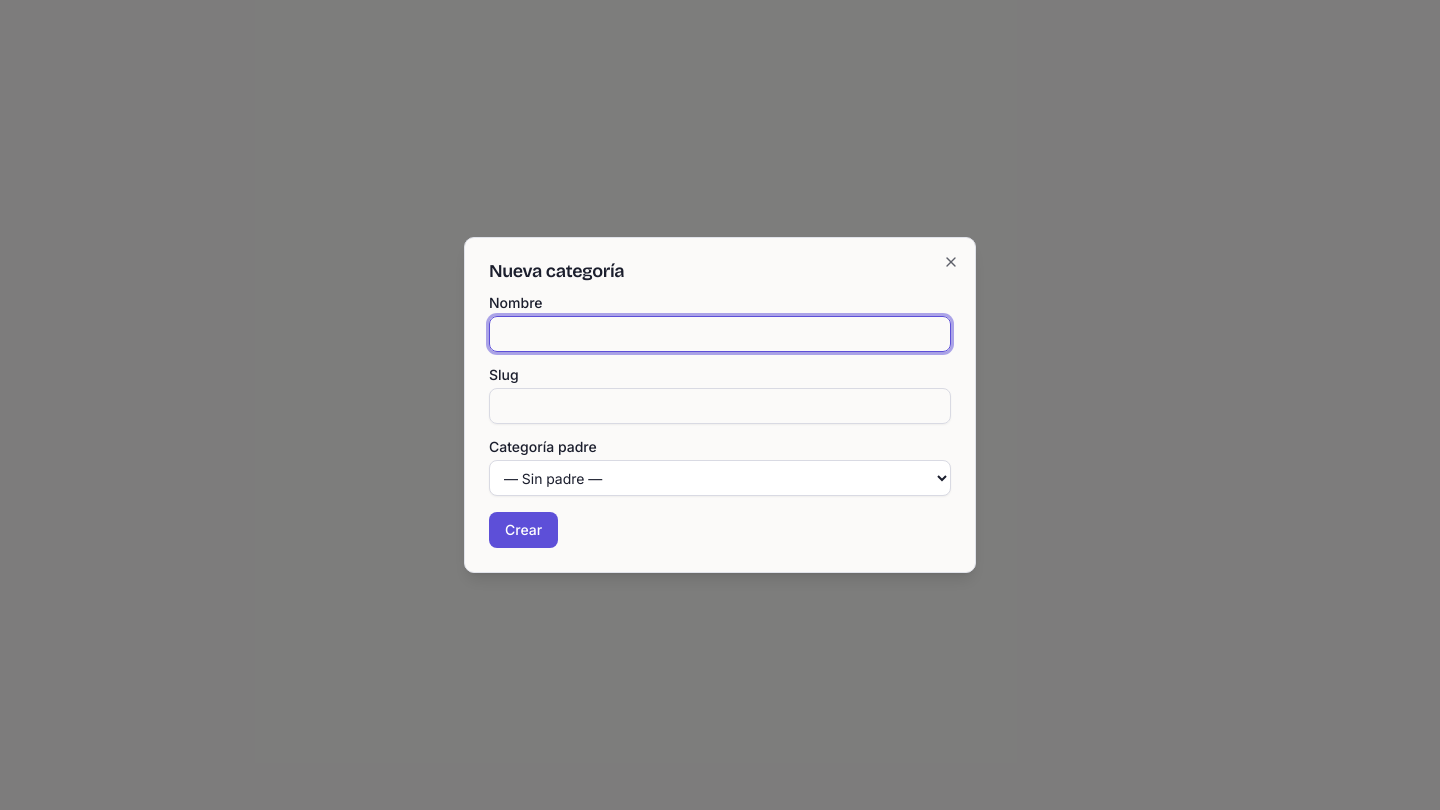
Test: CategoryDialog › slug duplicado (409) muestra error inline
Type "Alpha" into the field labelled "Nombre" at (720, 334), box [489,316,951,352]
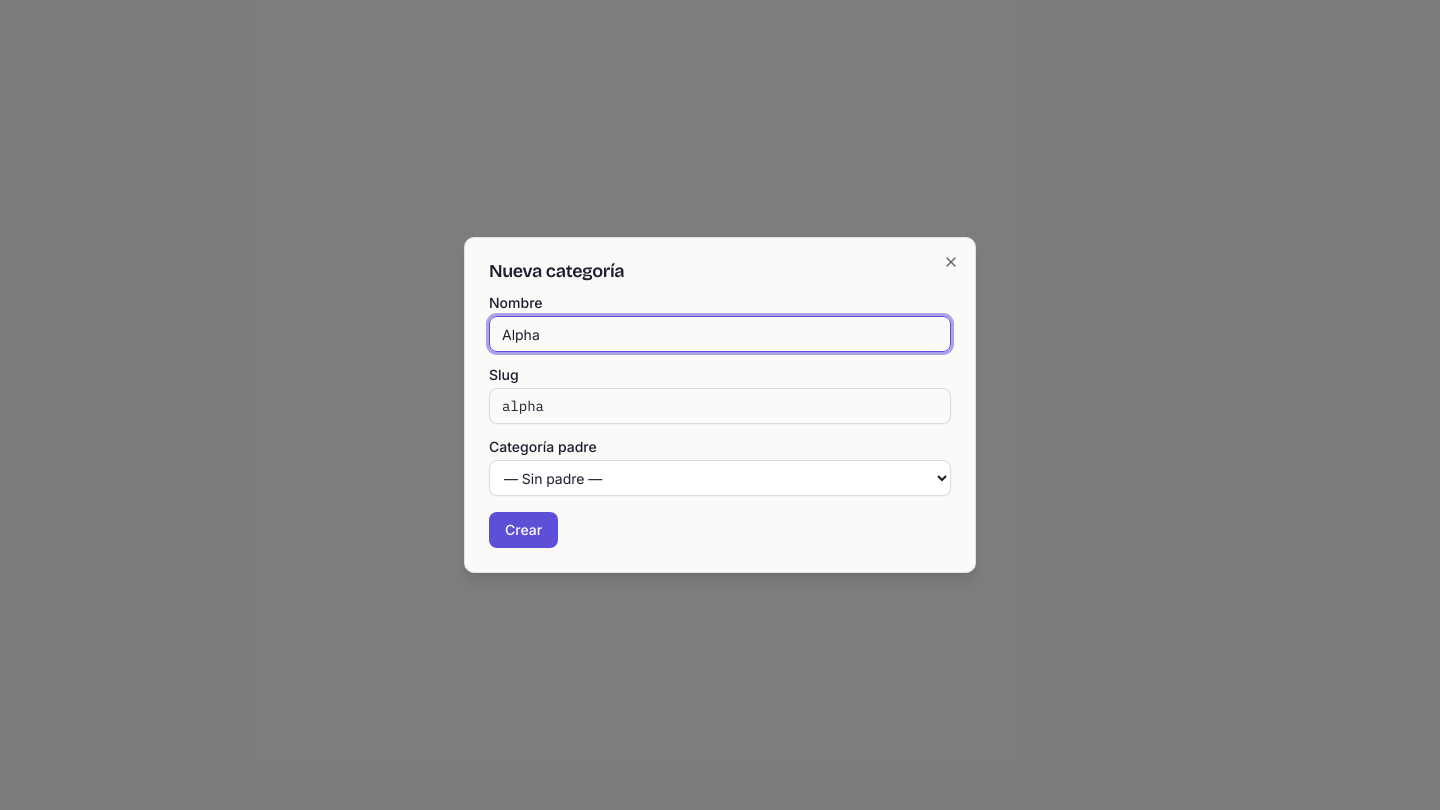
Click the button "Crear" at (524, 530), box [489,512,558,548]
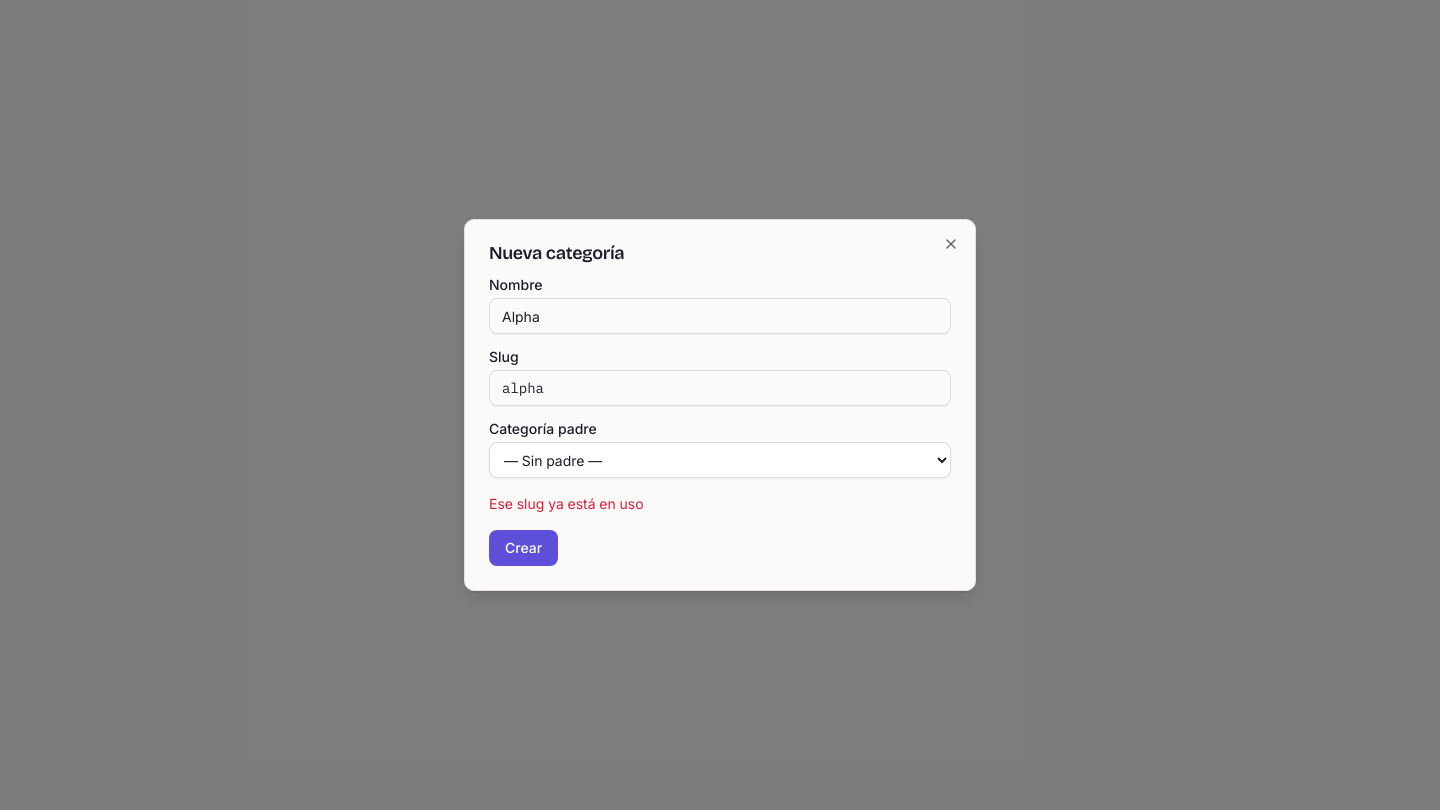
expect the text "Ese slug ya está en uso" is shown: met, box [489,495,644,512]
